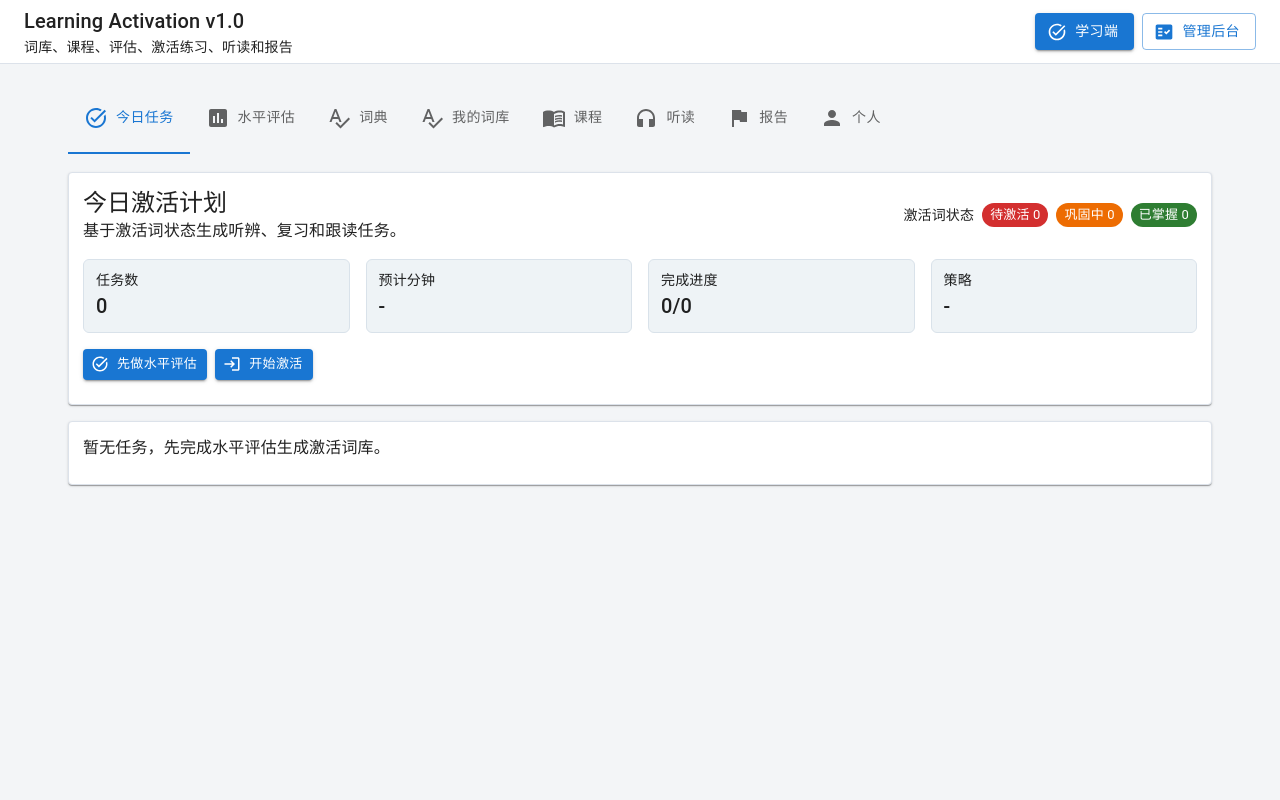
Test: App v1.0 shell › starts an unlocked course task and saves a course report
Step 1. Click the tab "课程" → (572,118), box left=526, top=82, right=618, bottom=154
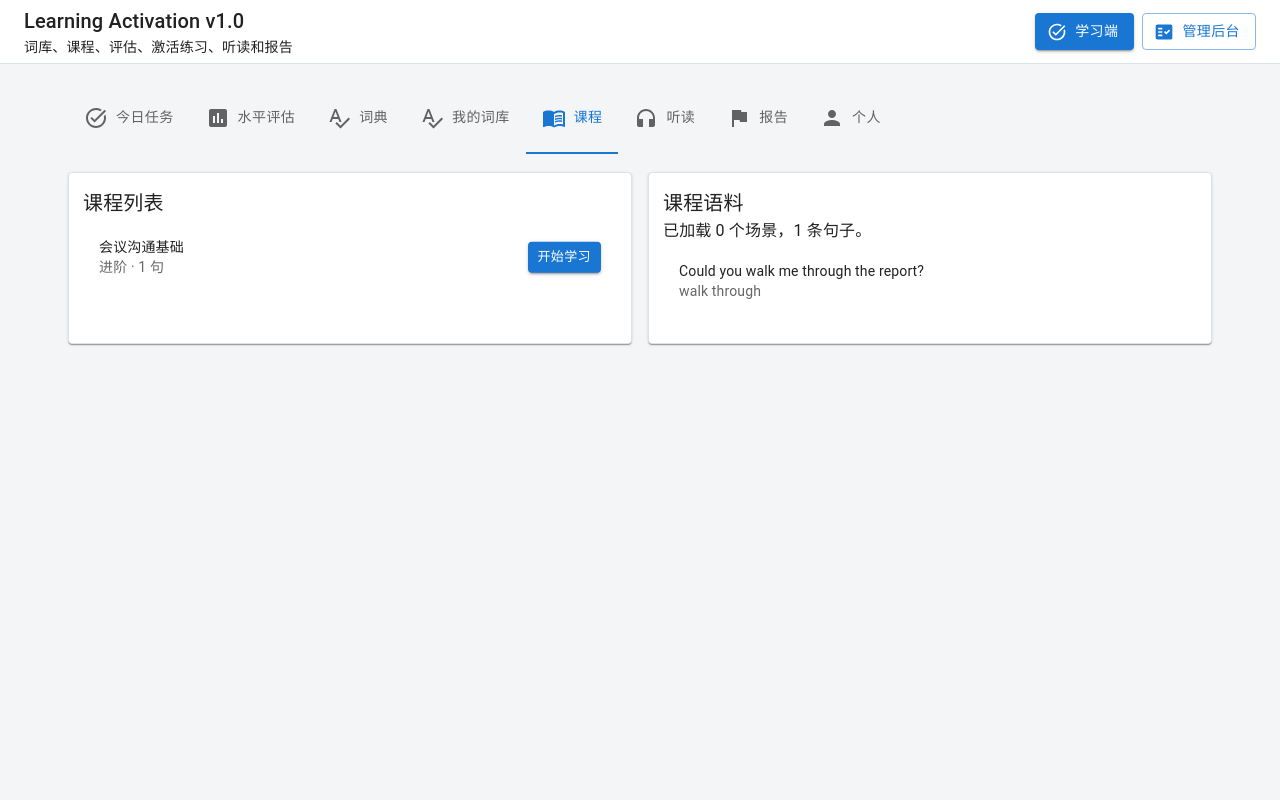
Step 2. Click the button "开始学习" → (564,257), box left=528, top=242, right=601, bottom=272
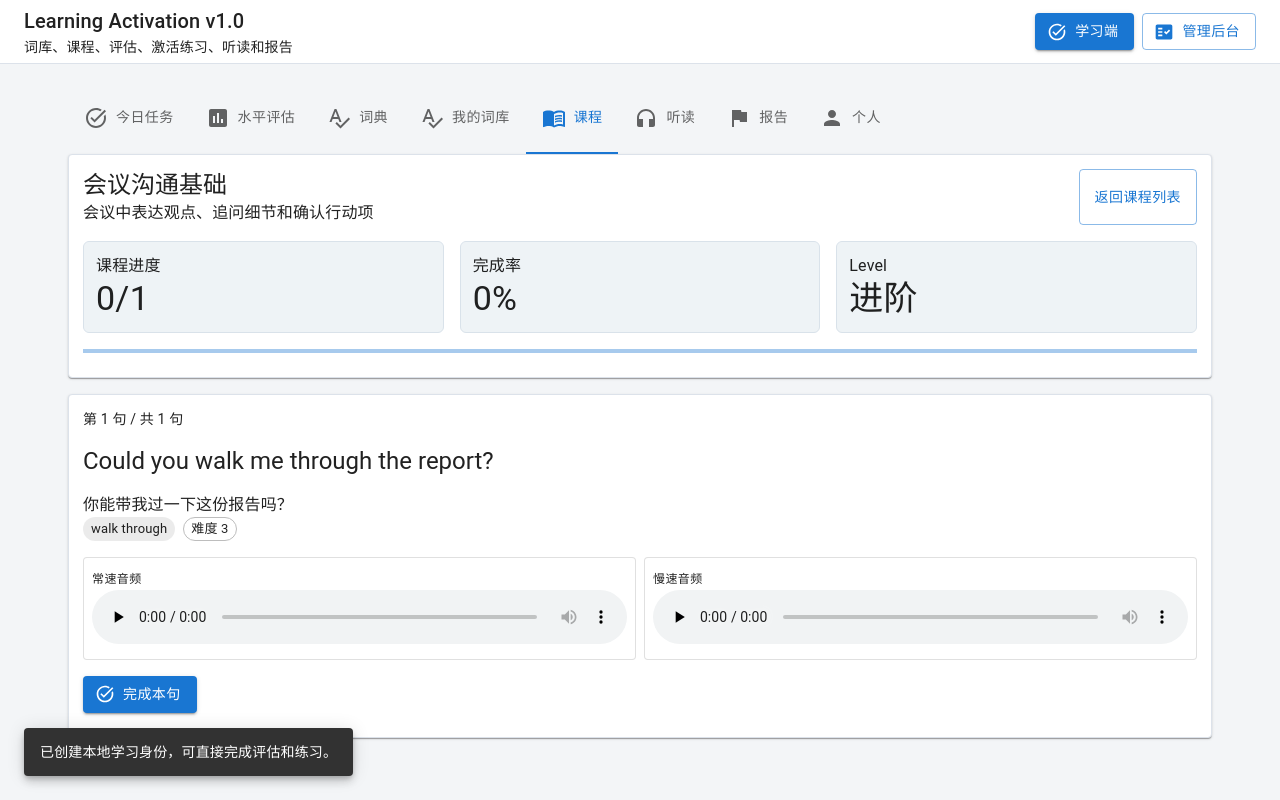
Expected: the heading "Could you walk me through the report?" is shown, left=83, top=447, right=494, bottom=475
Step 3. Click the button "完成本句" → (140,694), box left=83, top=676, right=197, bottom=712
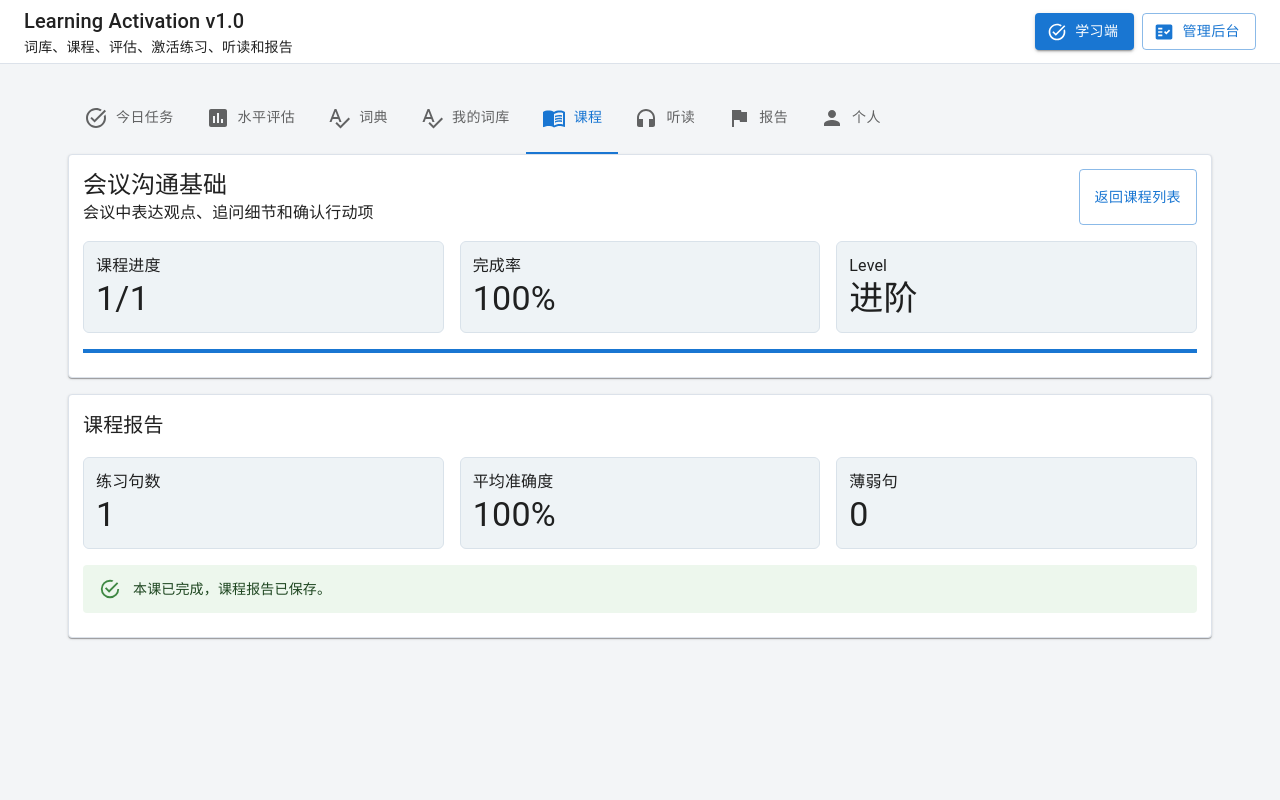
Expected: the heading "课程报告" is shown, left=83, top=413, right=164, bottom=437
Expected: the text "本课已完成，课程报告已保存。" is shown, left=133, top=581, right=331, bottom=597
